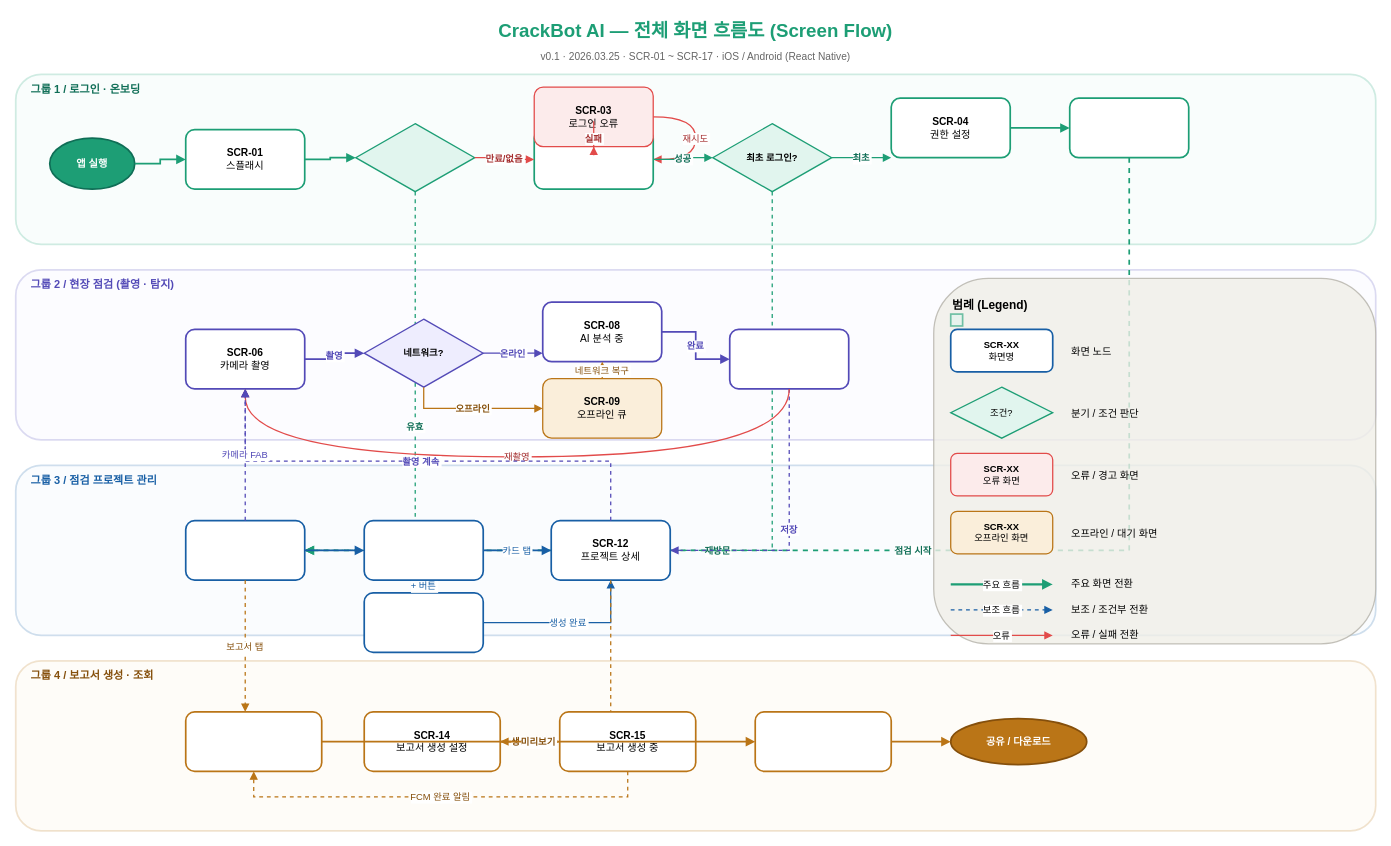
The diagram is 1391 pixels wide and 846 high, and some of its shapes have lost their labels. The shapes that lost their labels are listed below. From the top down, each one's centre as x and y in pixels, then its label:
At point 1128,127: "SCR-05 온보딩 완료".
At point 415,157: "토큰 유효?".
At point 593,159: "SCR-02 로그인".
At point 788,358: "SCR-07 AI 탐지 결과".
At point 244,550: "SCR-10 홈 대시보드".
At point 423,550: "SCR-11 프로젝트 목록".
At point 423,622: "SCR-13 프로젝트 생성".
At point 253,741: "SCR-16 보고서 목록".
At point 823,741: "SCR-17 보고서 미리보기".
